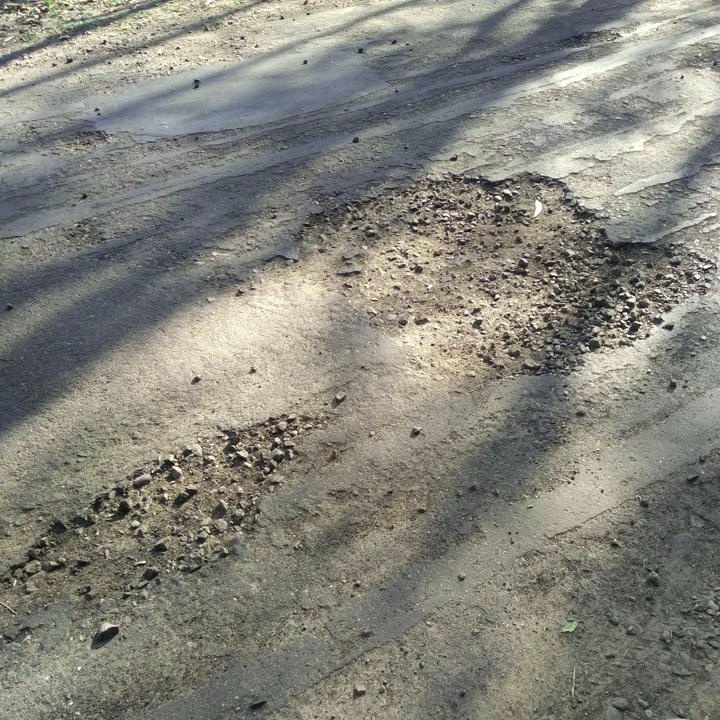pothole: (272, 164, 713, 381), (0, 410, 324, 605)
